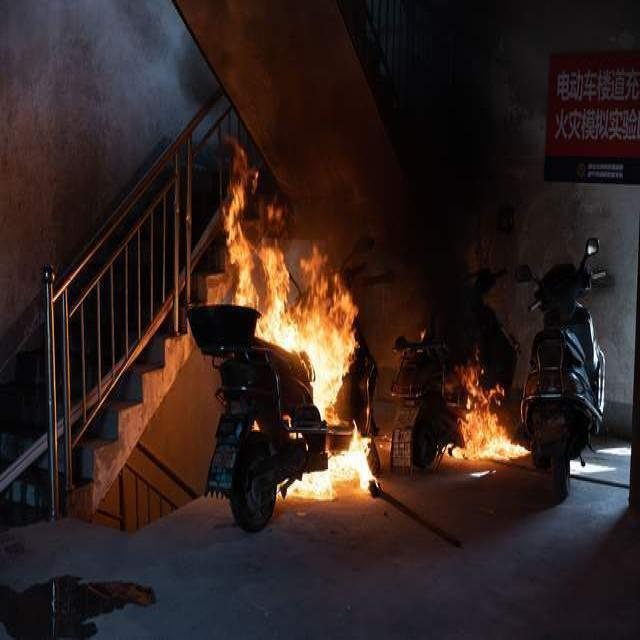Fire: (226, 137, 290, 306), (300, 244, 356, 417), (450, 358, 530, 463), (330, 424, 371, 491), (253, 299, 300, 349), (292, 467, 334, 503)
